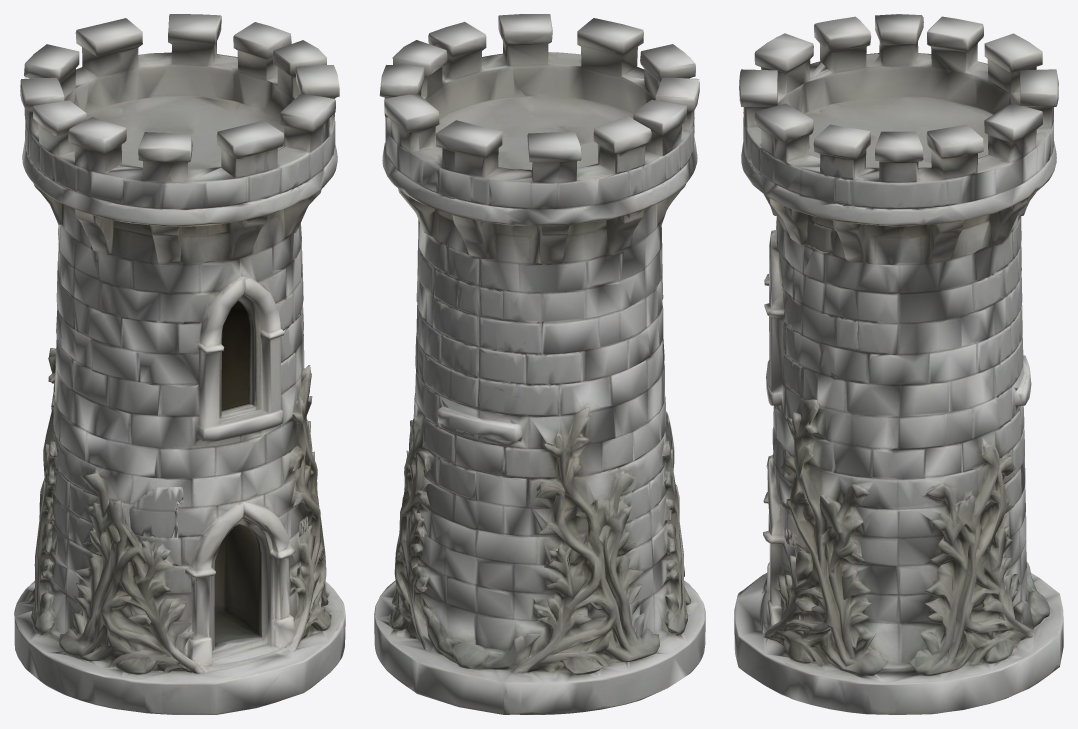
Rendered from w_rook.glb.
3 renders of one model, left to right at view 1: azimuth 30°, elevation 25°; view 2: azimuth 150°, elevation 25°; view 3: azimuth 270°, elevation 25°, orthographic.
Parts seen in each view (by area): view 1: node_0; view 2: node_0; view 3: node_0.
Boxes of the visible parts, x1,y1,x2,y2 form: node_0: (14,14,345,714); node_0: (374,14,705,714); node_0: (734,14,1063,714).
Size of the model in its own units: 0.5631 by 1.07 by 0.5593.
1 material, 1 textured.
